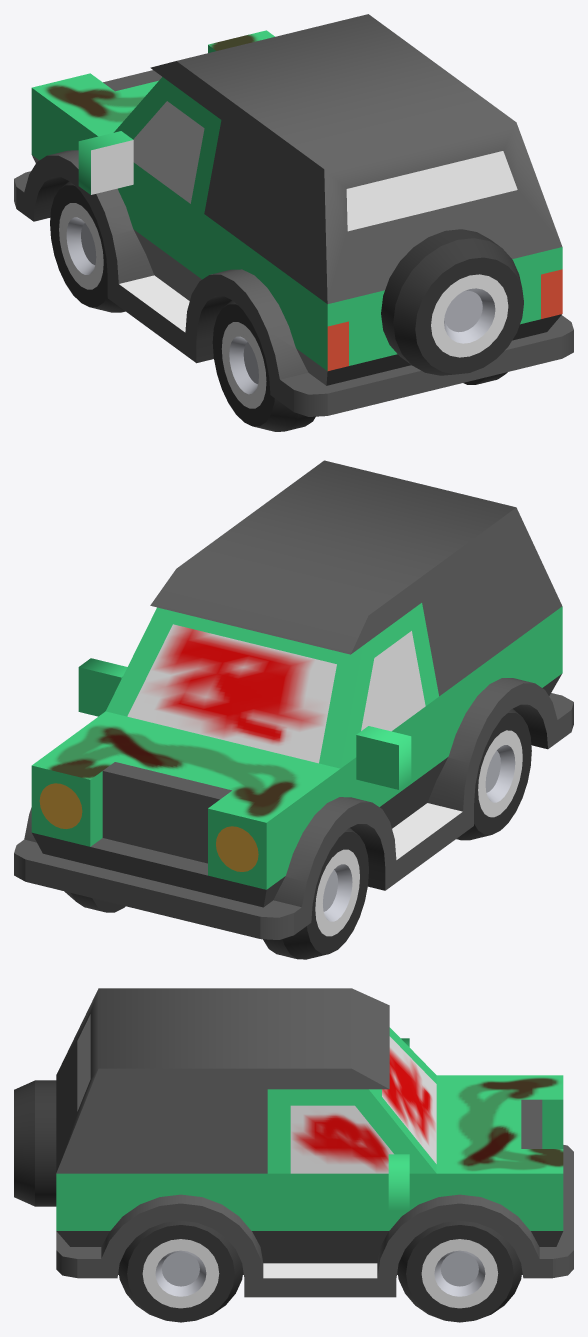
Rendered from Suv.glb.
3 renders of one model, top to bottom at view 1: azimuth 30°, elevation 25°; view 2: azimuth 150°, elevation 25°; view 3: azimuth 270°, elevation 25°, orthographic. The views are drawn at different scales.
Visible parts, largest first — view 1: body, wheel_back, wheel_backLeft, wheel_frontLeft; view 2: body, wheel_frontLeft, wheel_backLeft; view 3: body, wheel_backRight, wheel_frontRight, wheel_back.
Part boxes in pixels (x1=…): body: x1=14, y1=14, x2=573, y2=416; wheel_back: x1=381, y1=229, x2=523, y2=375; wheel_backLeft: x1=212, y1=300, x2=315, y2=431; wheel_frontLeft: x1=50, y1=181, x2=125, y2=312; body: x1=14, y1=460, x2=573, y2=939; wheel_frontLeft: x1=263, y1=828, x2=368, y2=959; wheel_backLeft: x1=456, y1=708, x2=531, y2=840; body: x1=56, y1=988, x2=573, y2=1297; wheel_backRight: x1=118, y1=1220, x2=243, y2=1322; wheel_frontRight: x1=397, y1=1220, x2=522, y2=1322; wheel_back: x1=14, y1=1080, x2=56, y2=1206.
Bounding box in the file's own units: 1.5 × 1.3 × 2.65.
